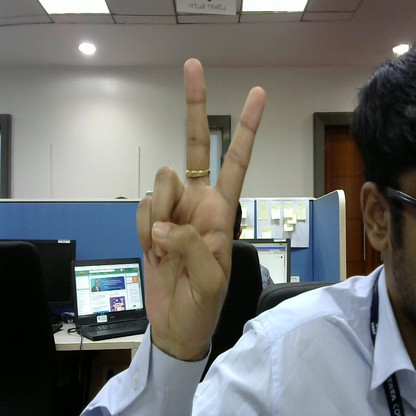v: (133, 57, 268, 349)
